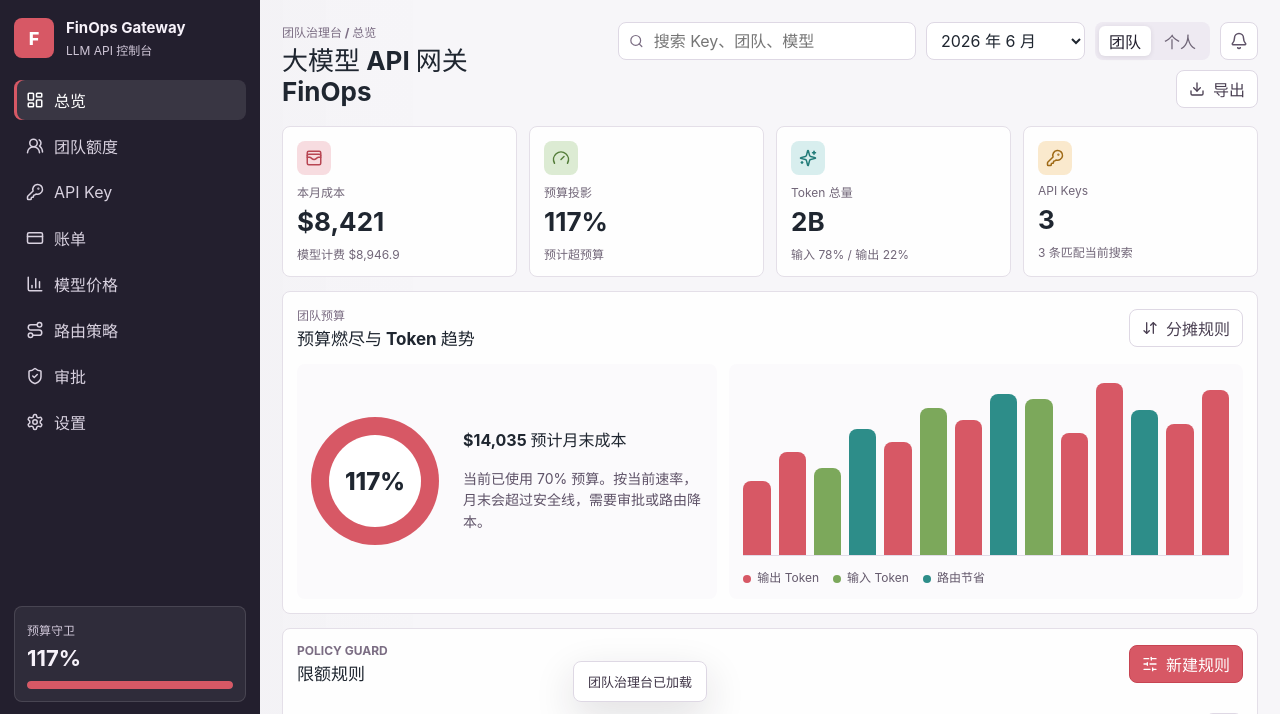
it: API key management page › edits only the API key name
Click the button "API Key" at (130, 192), box [14,172,246,212]
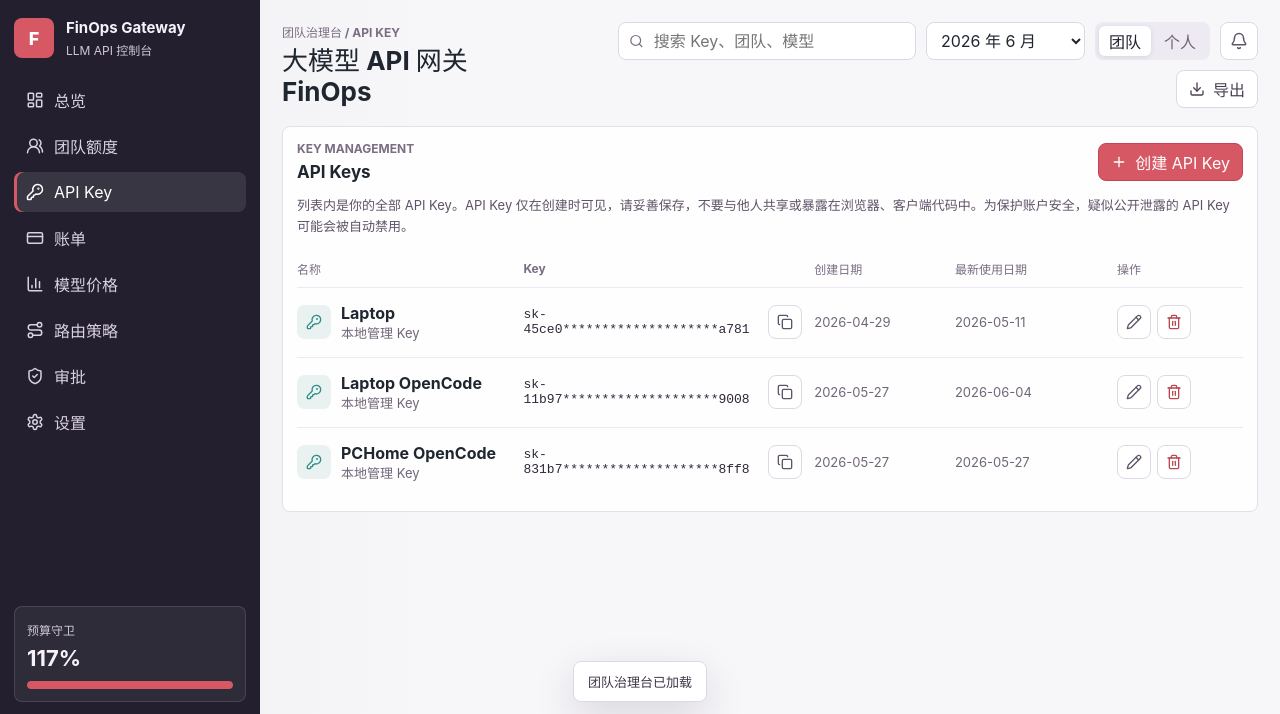
Expected: the text "Laptop" is shown, [341,303,395,323]
Click the button named "编辑 Laptop" at (1134, 322), box [1117,305,1151,339]
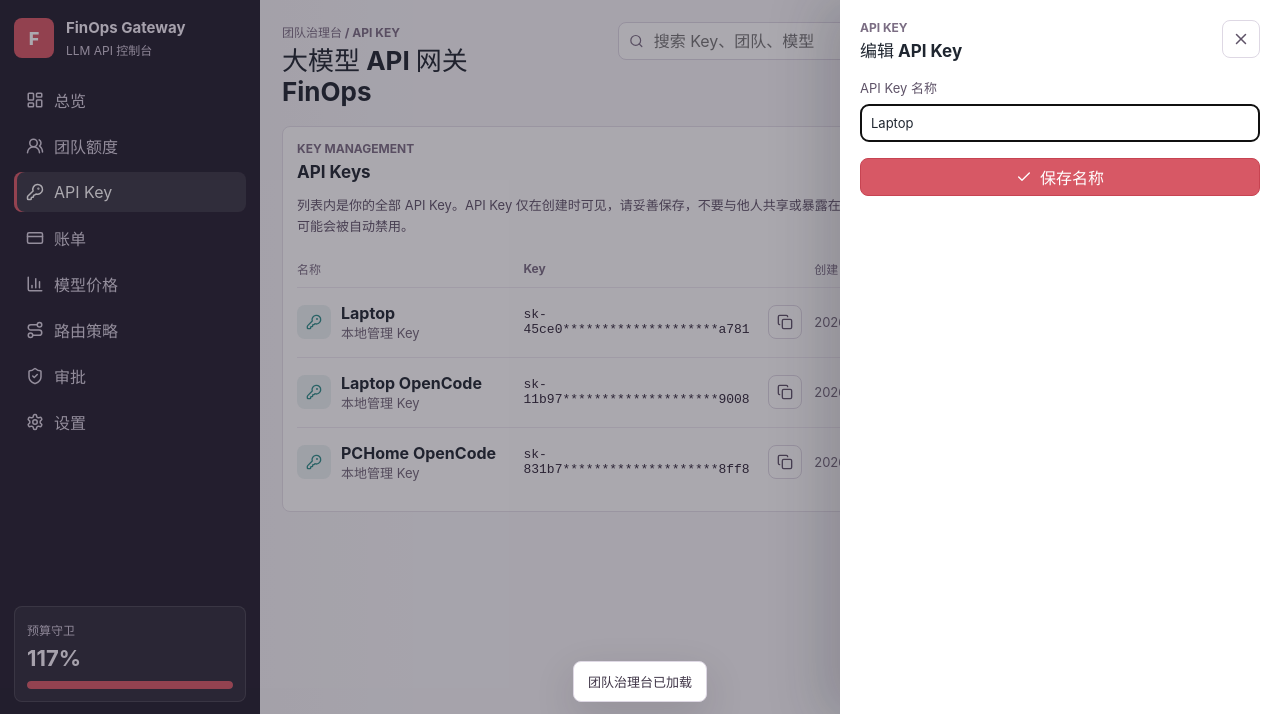
Now the field labelled "API Key 名称" holds "Laptop"
Replace the text in the field labelled "API Key 名称" with "Laptop Dev" at (1060, 123), box [860,104,1260,142]
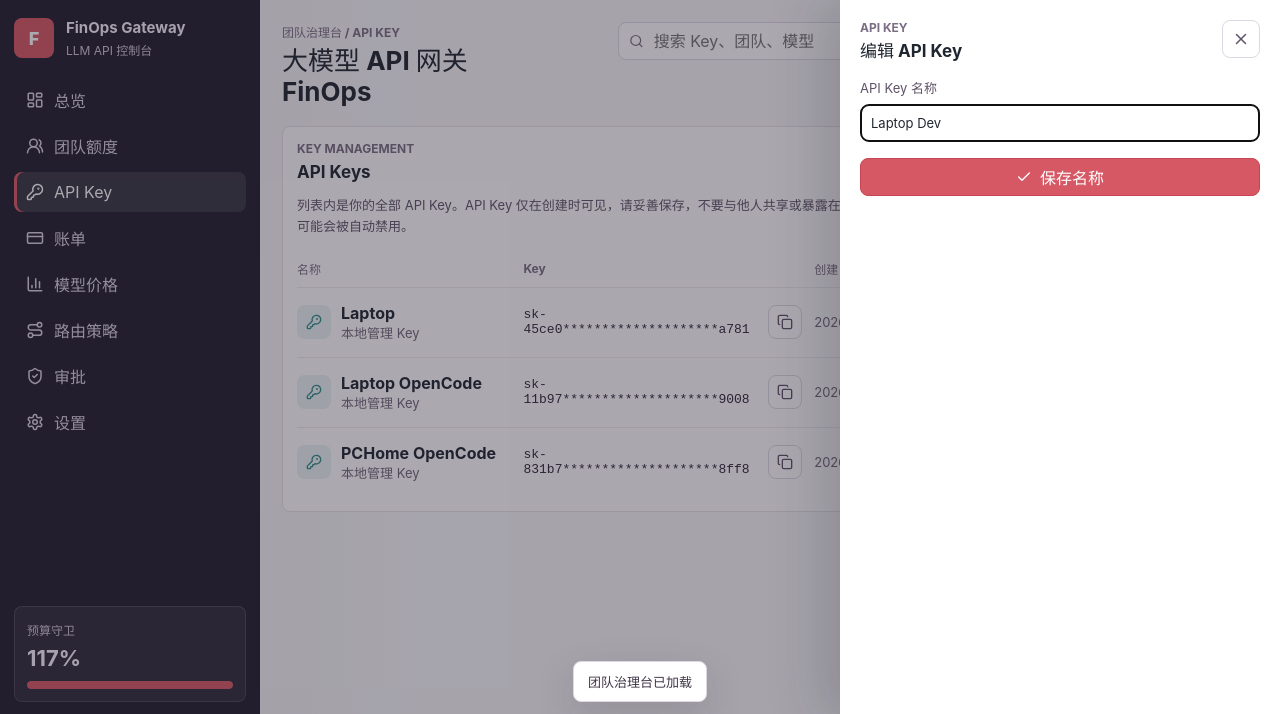
Click the button "保存名称" at (1060, 177), box [860,158,1260,196]
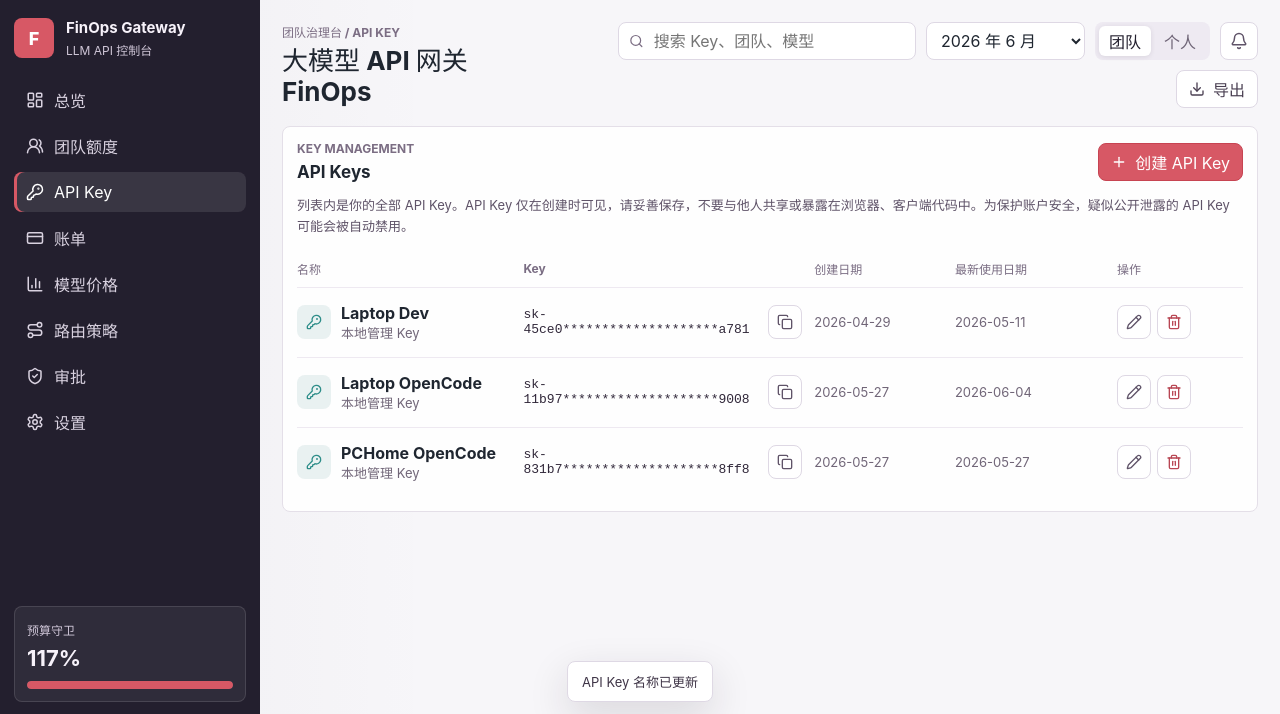
Now the text "Laptop Dev" is shown, box [341,303,429,323]
